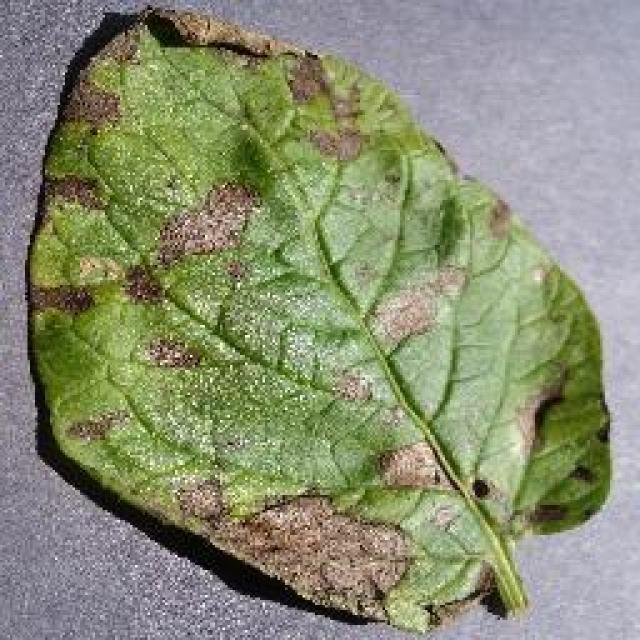early_blight: (23, 2, 615, 638)
